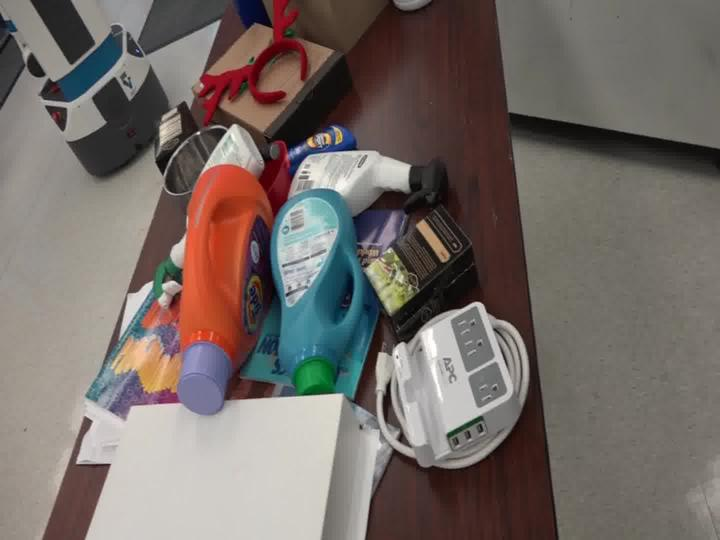tide: (177, 139, 274, 410)
